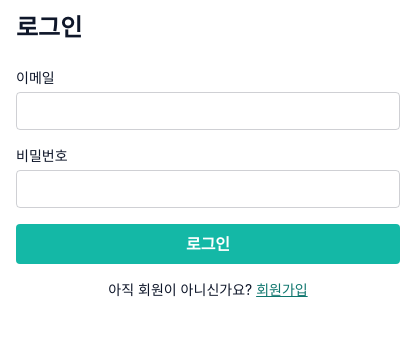
Scenario: LoginPage › 401이면 서버 메시지를 보여 준다
Type "user@example.com" into the field labelled "이메일" at (208, 111), box [16, 92, 400, 130]
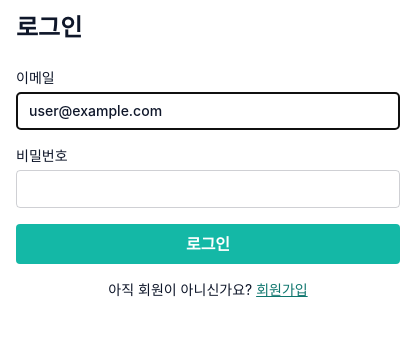
Type "password1" into the password field labelled "비밀번호" at (208, 189), box [16, 170, 400, 208]
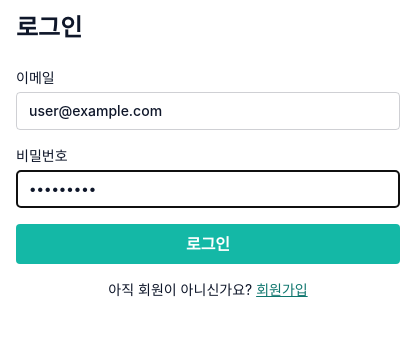
Click the button "로그인" at (208, 244), box [16, 224, 400, 264]
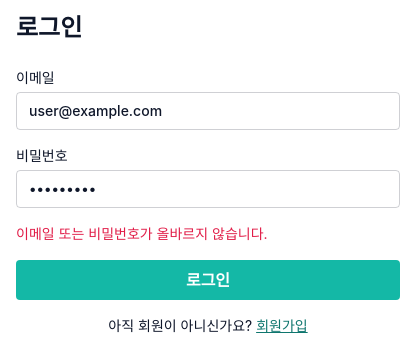
Check: the message reads "이메일 또는 비밀번호가 올바르지 않습니다.", box [16, 225, 268, 242]
